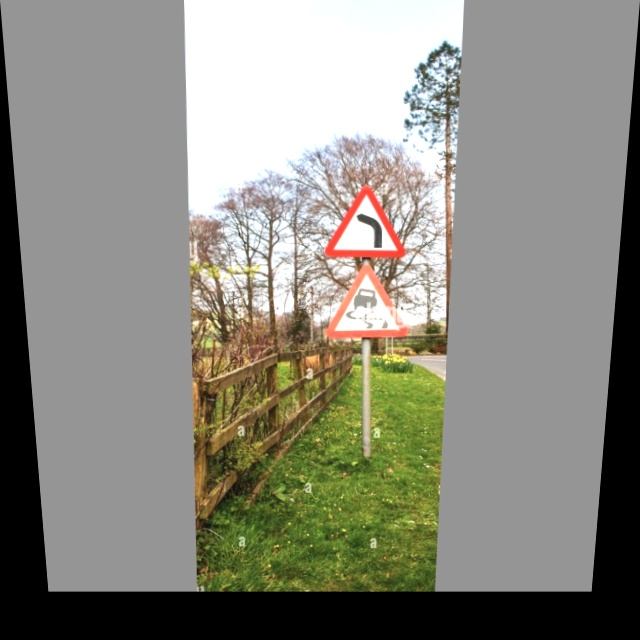Slippery_Road: (327, 263, 408, 341)
